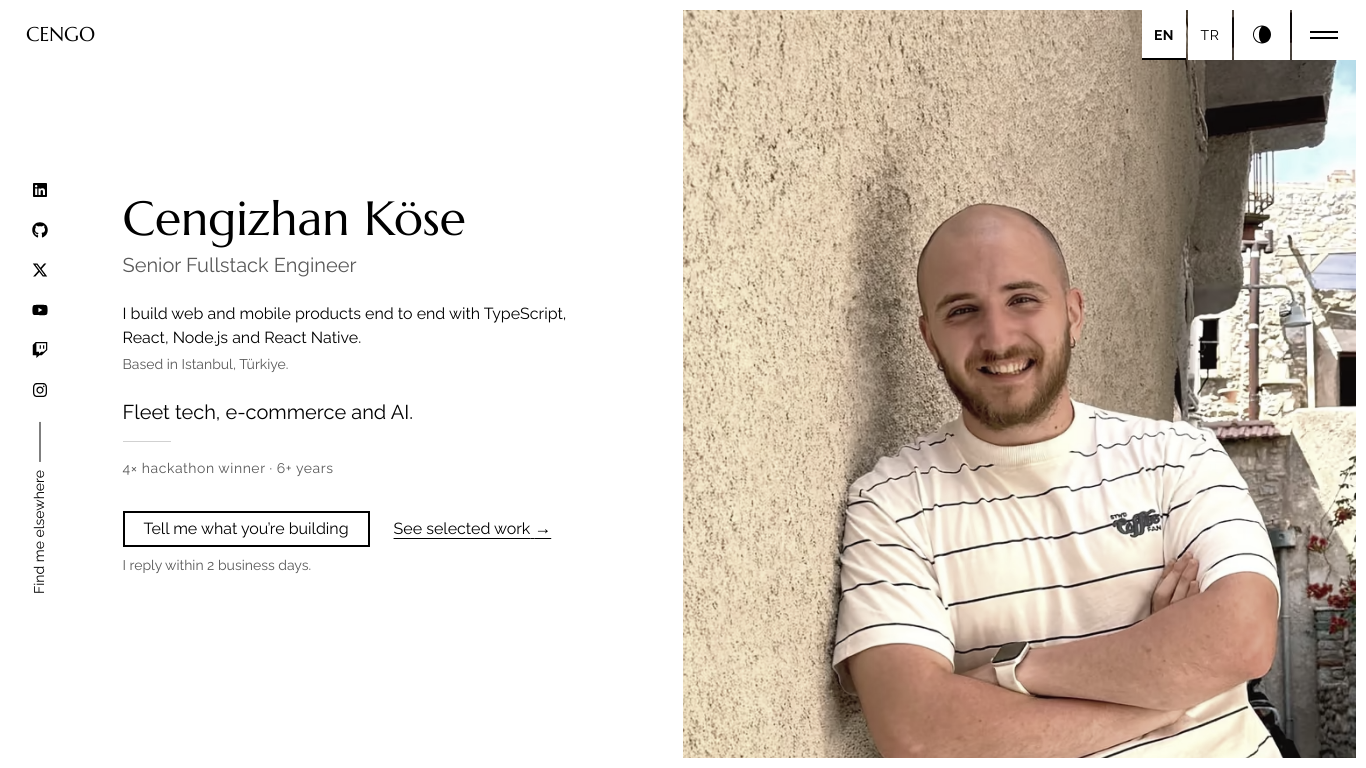
Test: opening and closing › closes when a menu link is chosen and navigates to it
Step 1. Click the button named "Menu" → {"x": 1324, "y": 35}, box [1292, 10, 1356, 60]
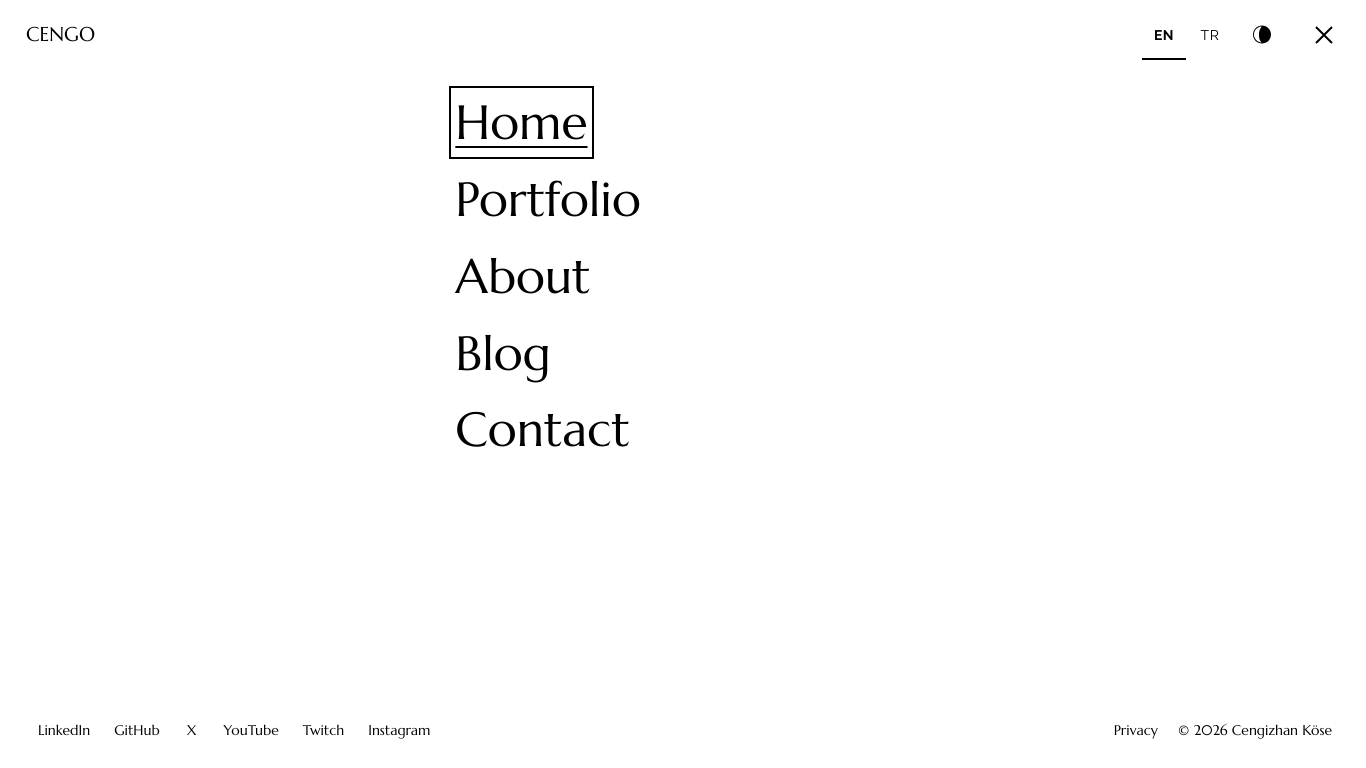
Step 2. Click the link "Blog" → {"x": 503, "y": 353}, box [455, 322, 551, 383]
(page scrolled)
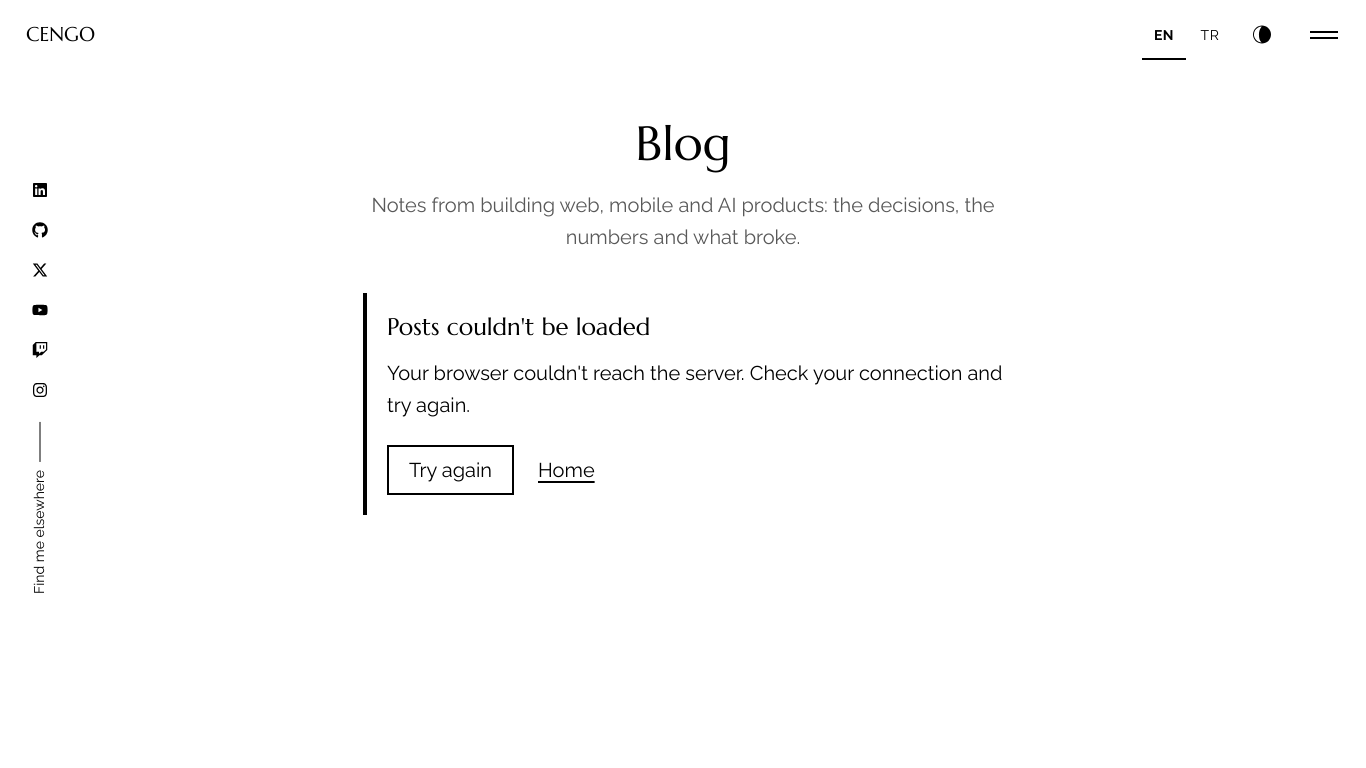
Now the button named "Menu" is collapsed, box [1292, 10, 1356, 60]
